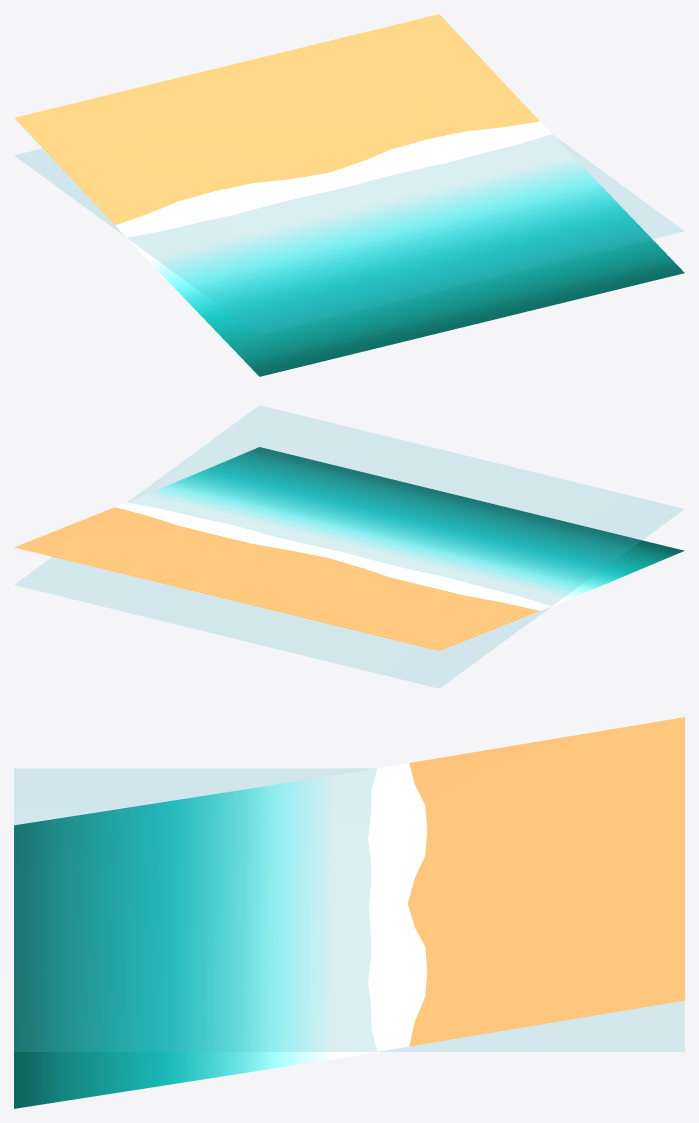
The model's file is Baech_03.glb.
The picture shows the model from 3 angles, top to bottom: view 1: azimuth 30°, elevation 25°; view 2: azimuth 150°, elevation 25°; view 3: azimuth 270°, elevation 25°; orthographic projection. The views are drawn at different scales.
Visible parts, largest first — view 1: Baech_03; view 2: Baech_03; view 3: Baech_03.
Boxes of the visible parts, bbox=[...] form: Baech_03: bbox=[14, 14, 684, 376]; Baech_03: bbox=[14, 406, 684, 687]; Baech_03: bbox=[14, 717, 684, 1108].
Bounding box in the file's own units: 15 × 2.67 × 15.
2 materials, 2 textured.
